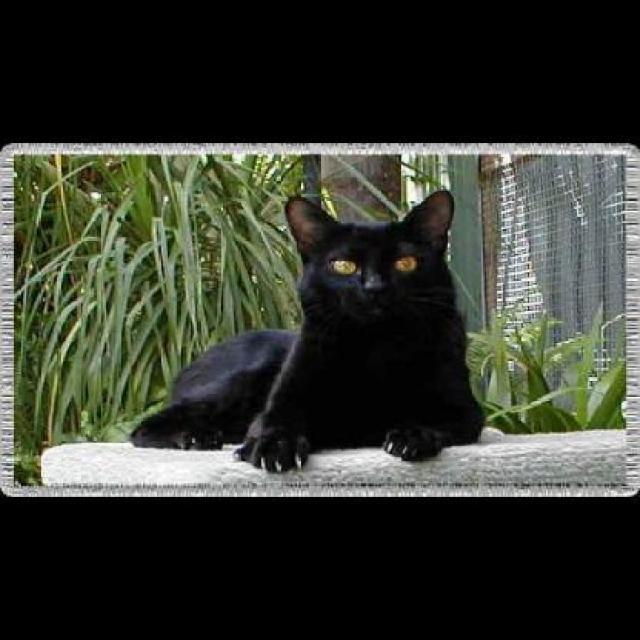unauthorized: (128, 188, 492, 472)
